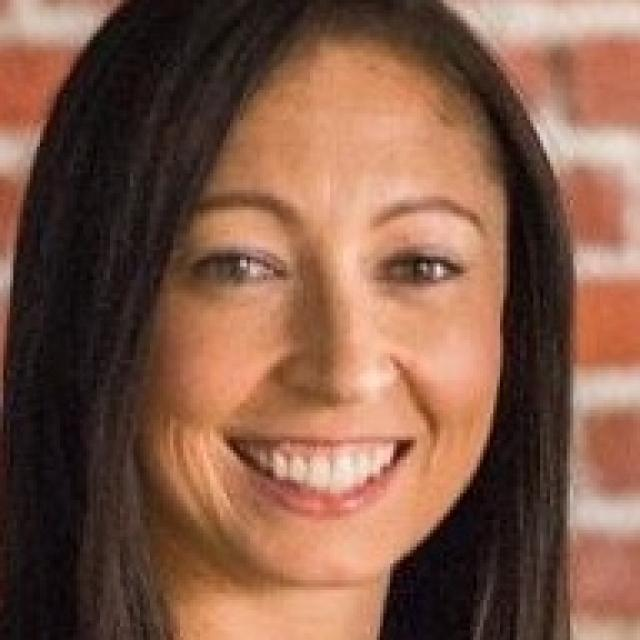Normal: (140, 33, 517, 587)
